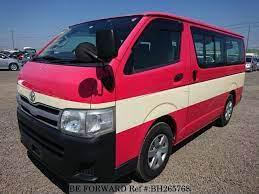Van: (15, 11, 244, 181)
